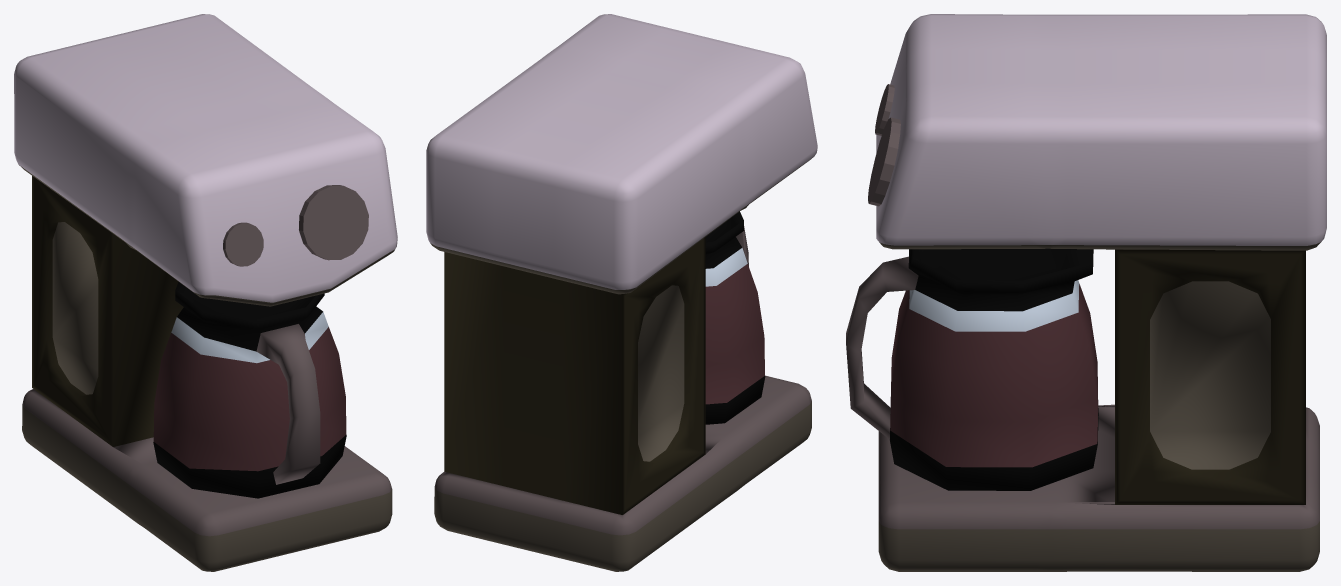
File: CoffeeMachine.fbx
The picture shows the model from 3 angles, left to right: view 1: azimuth 30°, elevation 25°; view 2: azimuth 150°, elevation 25°; view 3: azimuth 270°, elevation 25°; orthographic projection. The views are drawn at different scales.
Parts seen in each view (by area): view 1: Coffee_Machine; view 2: Coffee_Machine; view 3: Coffee_Machine.
Part boxes in pixels (<box>): Coffee_Machine: <box>14,14,397,571</box>; Coffee_Machine: <box>426,14,817,571</box>; Coffee_Machine: <box>846,14,1326,571</box>.
Bounding box in the file's own units: 106 × 191 × 182.
Materials: 1 (1 with a texture image).
